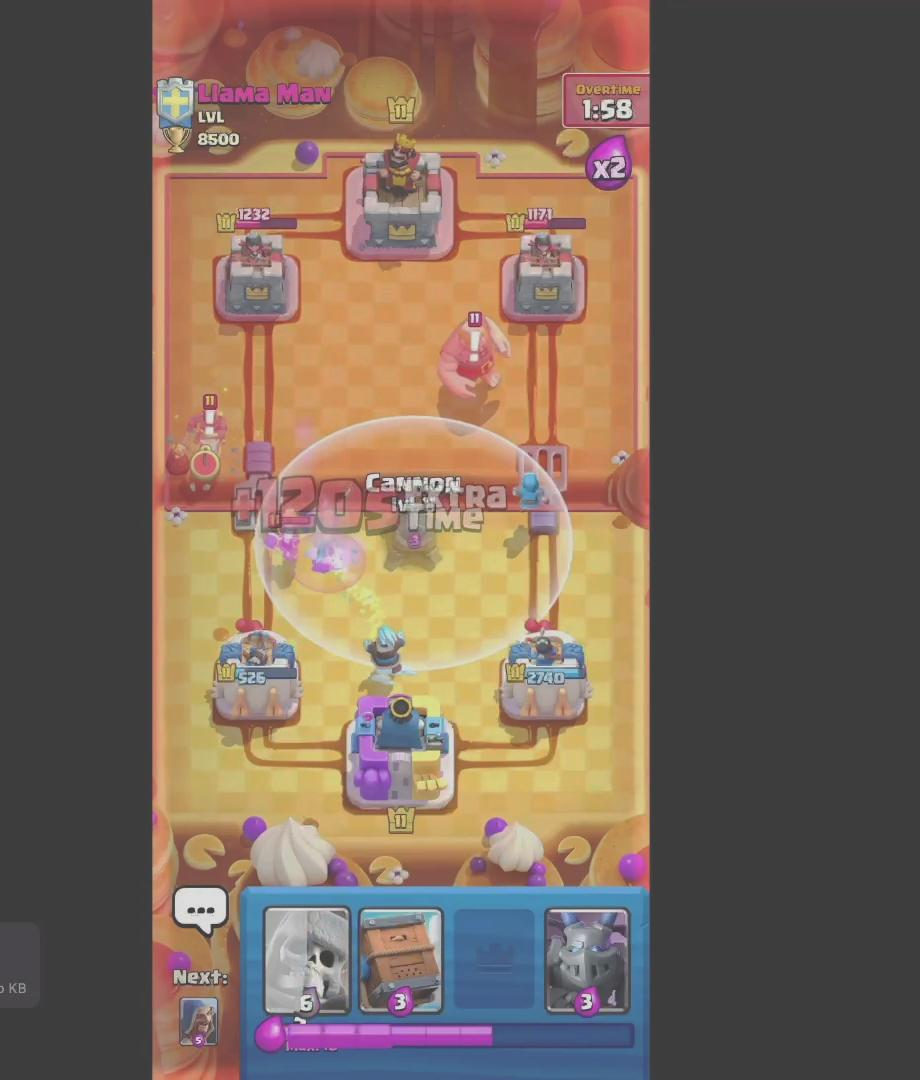Giant: (435, 315, 518, 402)
Hog Rider: (171, 395, 239, 481)
Valkyrie: (247, 503, 318, 575)
